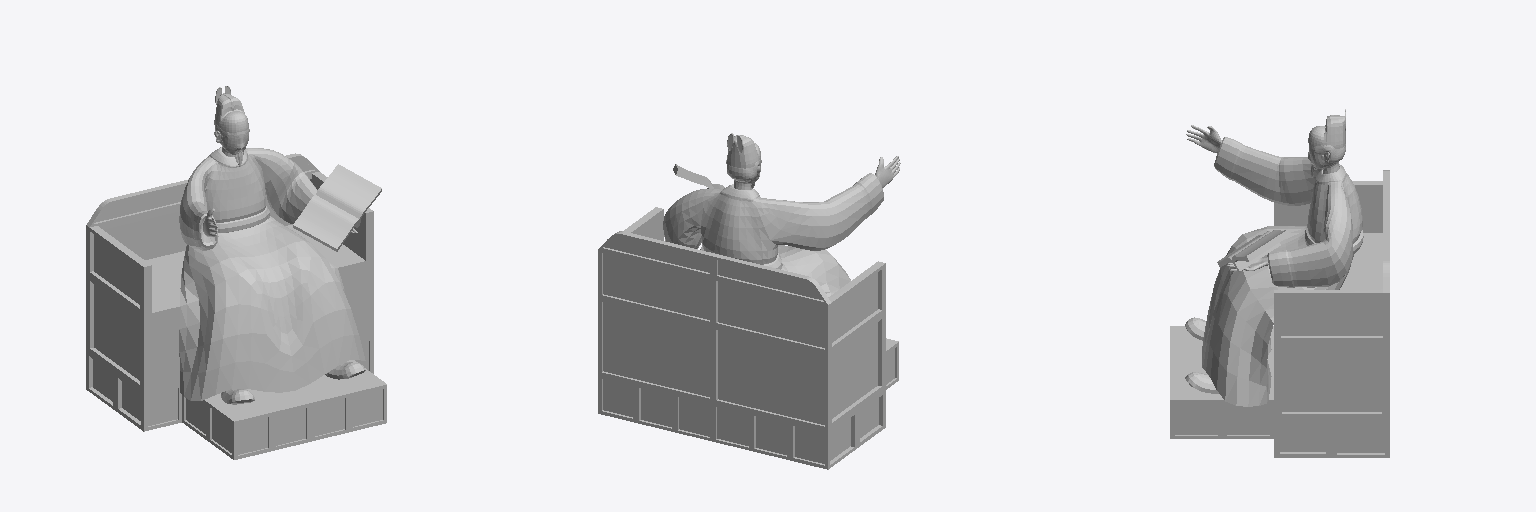
The model's file is birdballking2.obj.
3 views of the same model, side by side, from view 1: azimuth 30°, elevation 25°; view 2: azimuth 150°, elevation 25°; view 3: azimuth 270°, elevation 25° (orthographic).
Visible parts, largest first — view 1: hard; view 2: hard; view 3: hard.
Part boxes in pixels (x1,y1,x2,y2): hard: (86, 86, 386, 459); hard: (598, 133, 900, 469); hard: (1170, 109, 1389, 457).
Size of the model in its own units: 10.09 by 12.22 by 8.33.